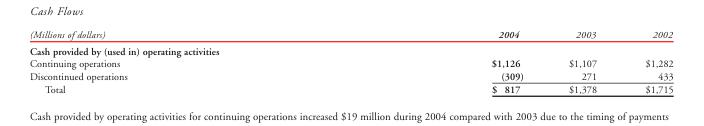table: (28, 28, 672, 94)
table column: (28, 28, 308, 94), (308, 28, 545, 94), (545, 28, 620, 94), (620, 28, 672, 94)
table column header: (28, 28, 672, 42)
table projected row header: (28, 42, 672, 56)
table row: (28, 28, 672, 42), (28, 42, 672, 56), (28, 56, 672, 69), (28, 69, 672, 82), (28, 82, 672, 94)
